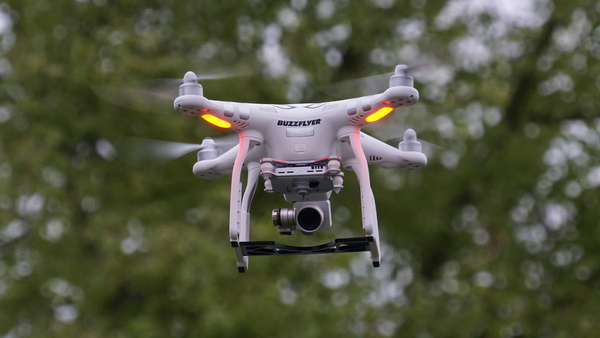drone: (124, 62, 444, 275)
